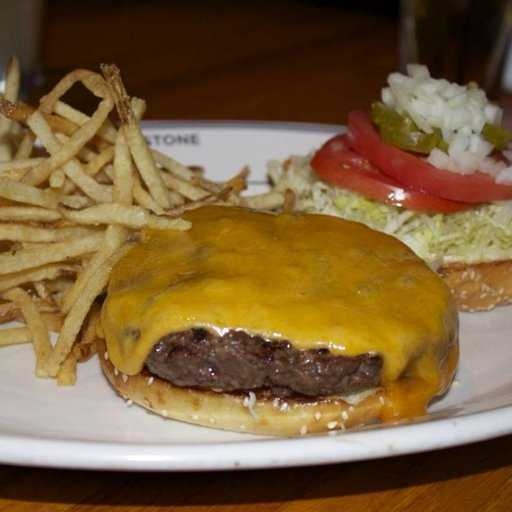hamburger: (94, 180, 465, 428)
